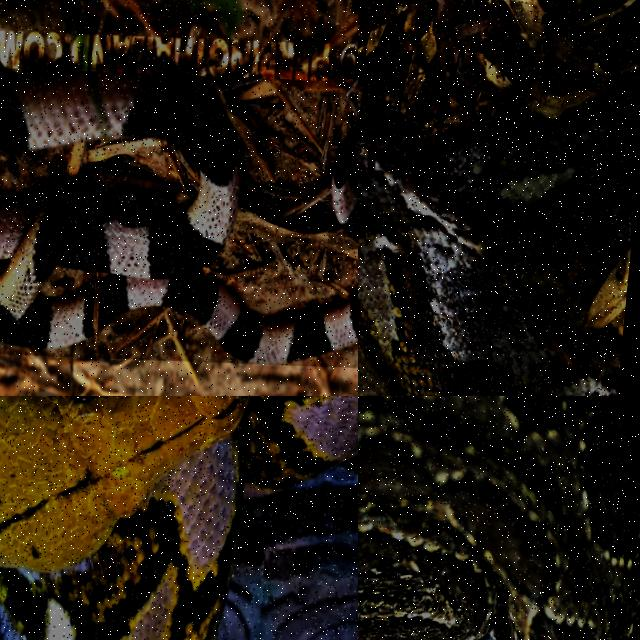Bungarus candidus: (0, 67, 357, 363)
Daboia siamensis: (358, 396, 639, 639)
Malayopython reticulatus: (0, 396, 357, 639), (358, 97, 639, 395)
